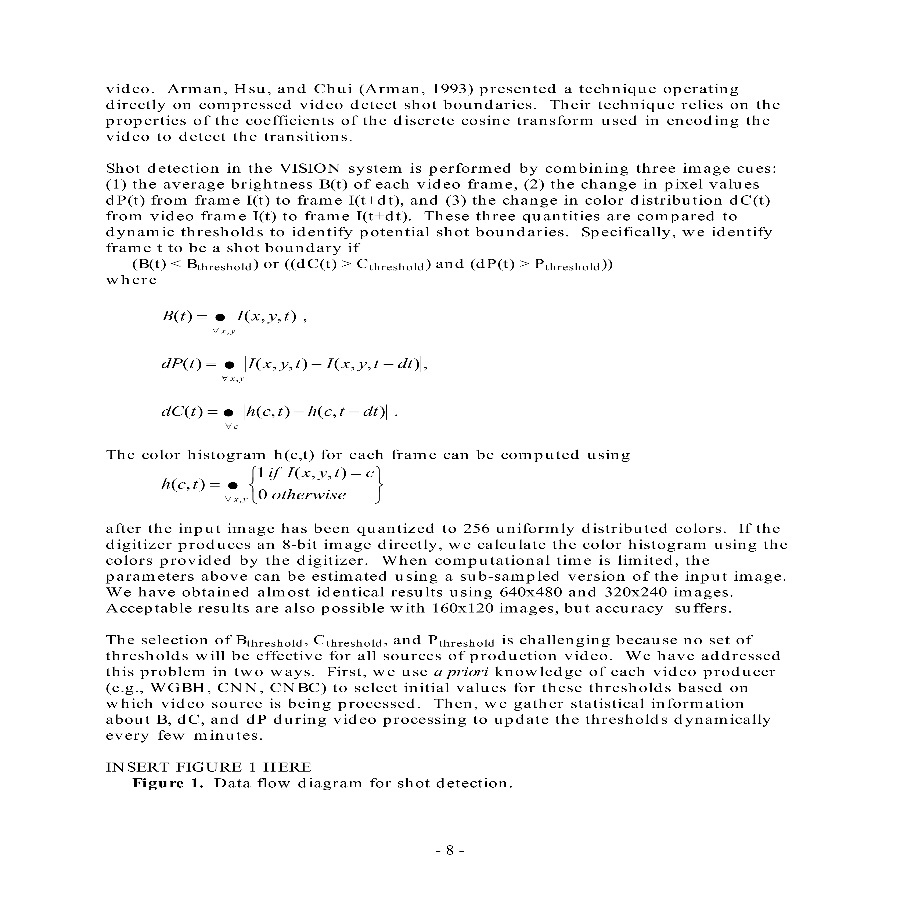eq: (158, 464, 387, 509), (157, 348, 423, 383), (158, 401, 393, 432), (160, 303, 300, 338)
